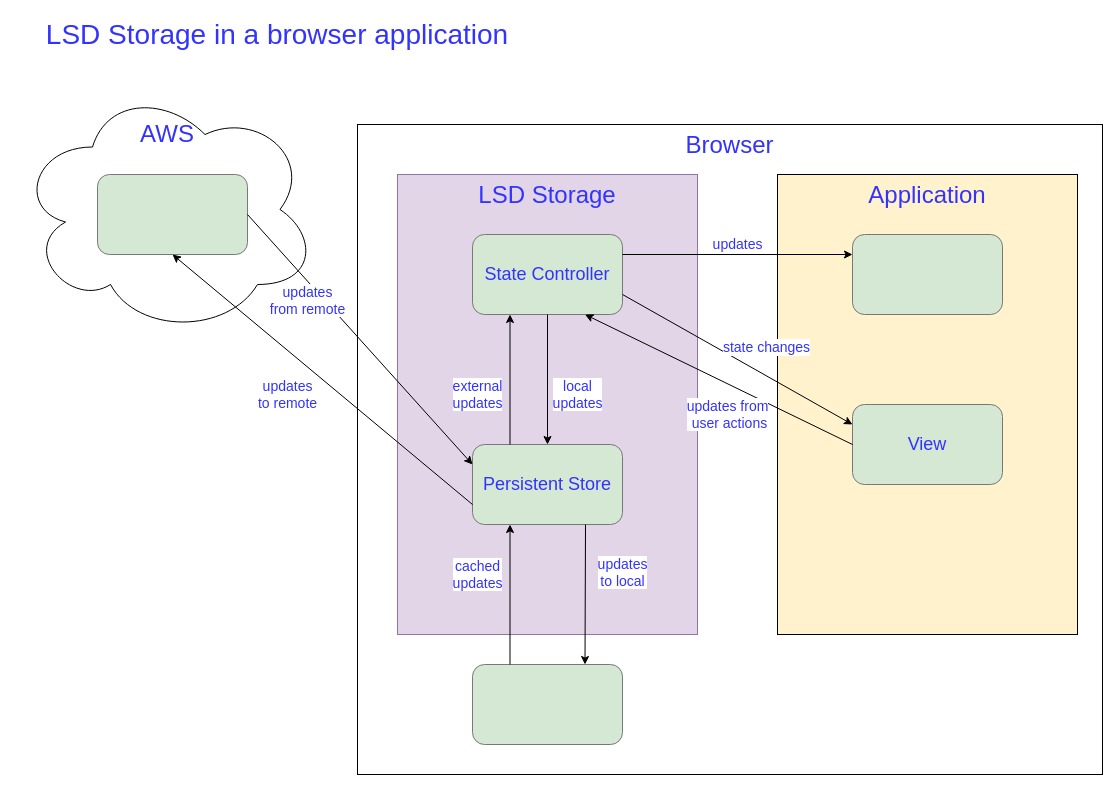
The diagram is 1120 pixels wide and 792 high, and some of its shapes have lost their labels. The shapes that lost their labels are listed below. From the top down, each one's box as (x1, y1, x2, y2) in pixels, then its label:
(96, 174, 248, 254): S3
(852, 234, 1002, 314): Application state (model)
(472, 664, 622, 744): Browser storage
